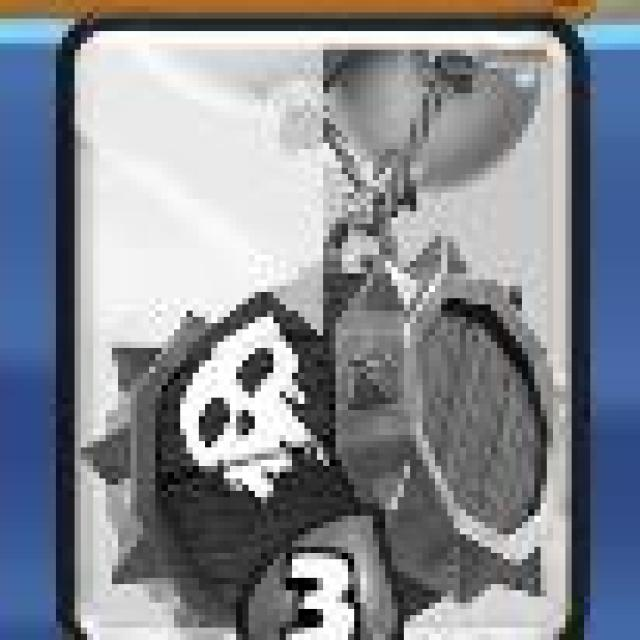Skeleton_Barrel: (66, 18, 584, 640)
